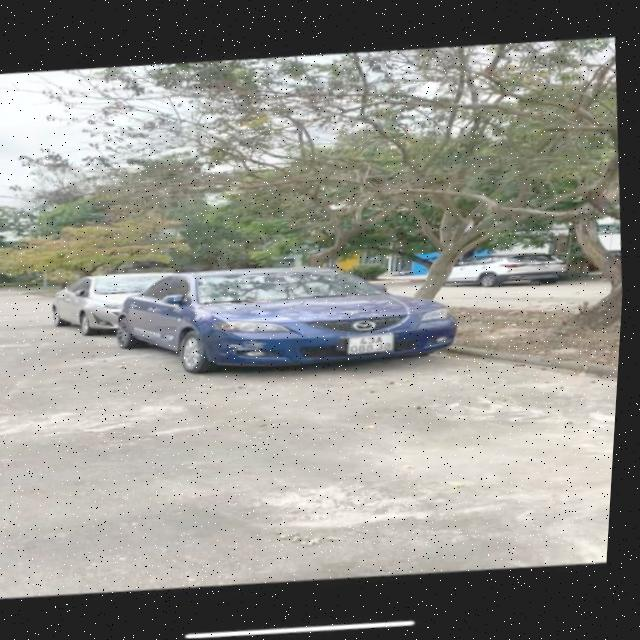car: (111, 245, 460, 392), (45, 267, 162, 341)
plate: (339, 326, 399, 361)
